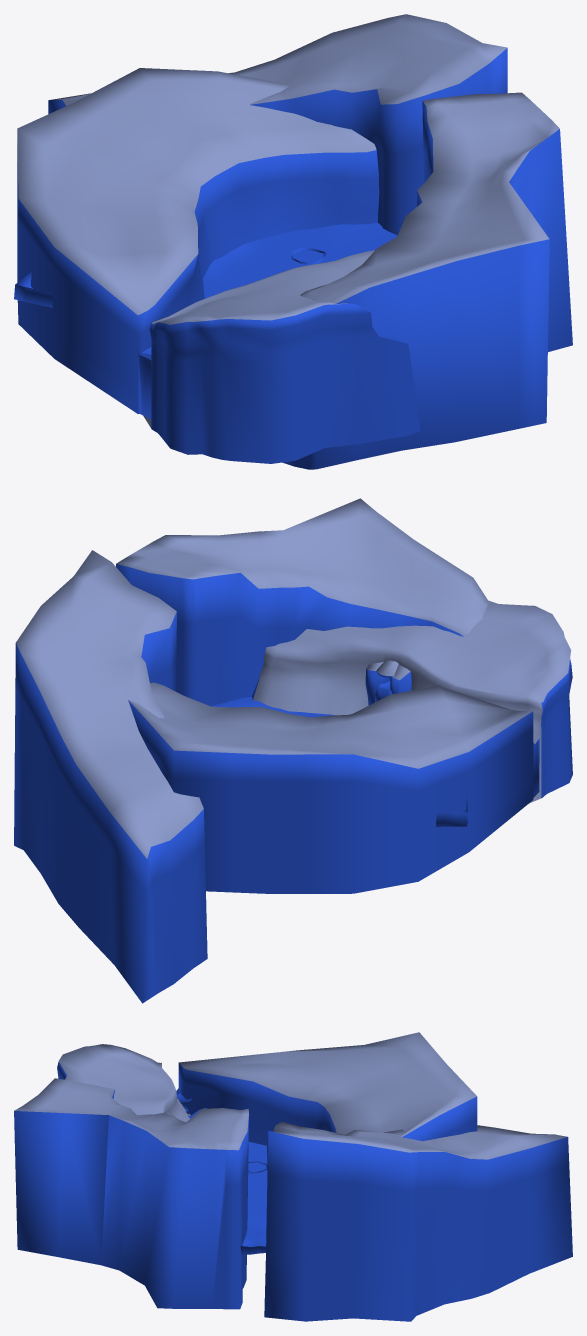
Rendered from Zone1WallFinal.FBX.
3 views of the same model, one above another, from view 1: azimuth 30°, elevation 25°; view 2: azimuth 150°, elevation 25°; view 3: azimuth 270°, elevation 25° (orthographic). The views are drawn at different scales.
Parts seen in each view (by area): view 1: Zone1V4; view 2: Zone1V4; view 3: Zone1V4.
Part boxes in pixels (box(x1,y1,x2,y2)): Zone1V4: box(14, 14, 572, 469); Zone1V4: box(14, 498, 572, 1003); Zone1V4: box(14, 1032, 572, 1321).
Bounding box in the file's own units: 29991 × 18570 × 42475.
